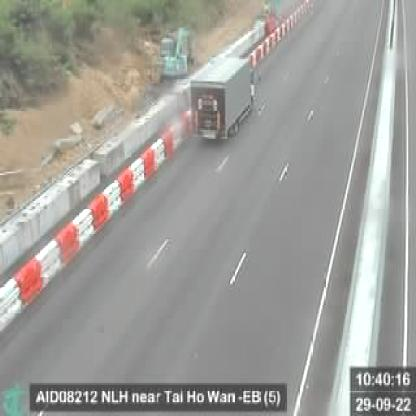Truck: (186, 57, 259, 149)
